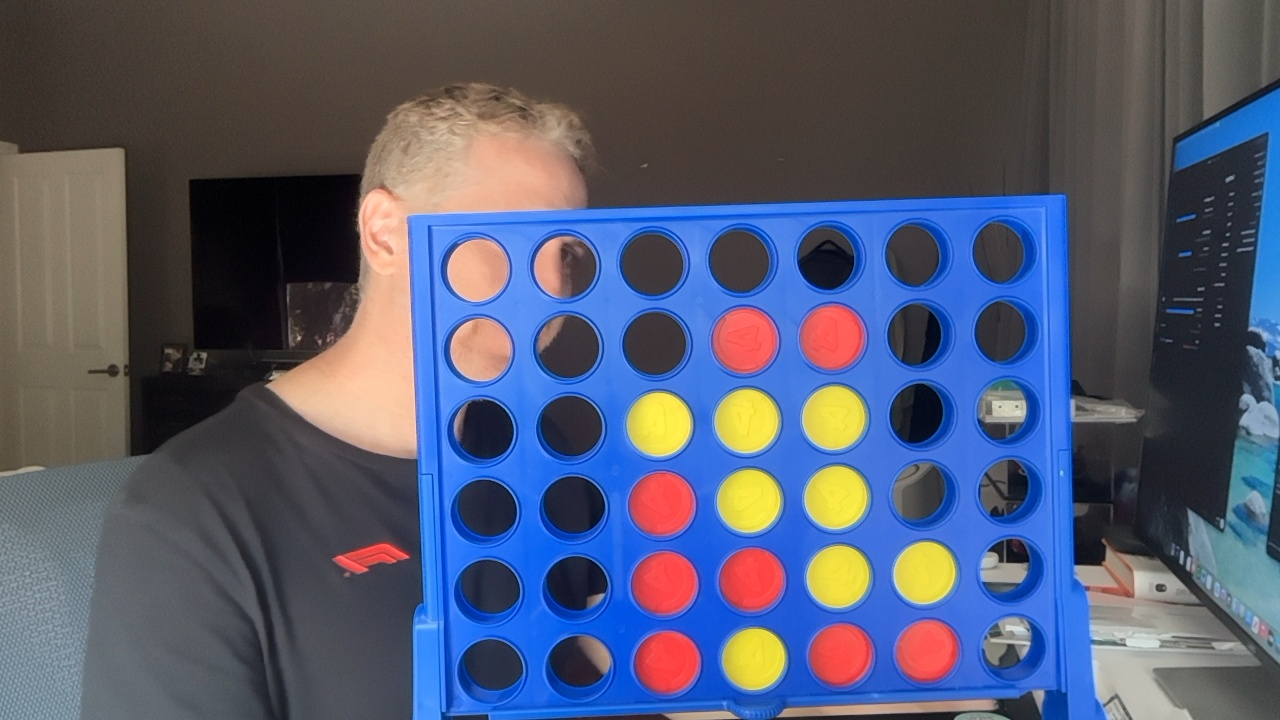red piece: (712, 307, 778, 373), (629, 471, 694, 537), (800, 304, 865, 370), (631, 551, 697, 615), (719, 548, 784, 612), (634, 631, 699, 695), (808, 624, 872, 687), (895, 620, 958, 682)
yellow piece: (626, 391, 692, 458), (714, 388, 780, 454), (802, 384, 867, 450), (804, 465, 868, 530), (806, 544, 870, 609), (717, 468, 781, 533), (721, 627, 786, 691), (894, 541, 957, 605)
